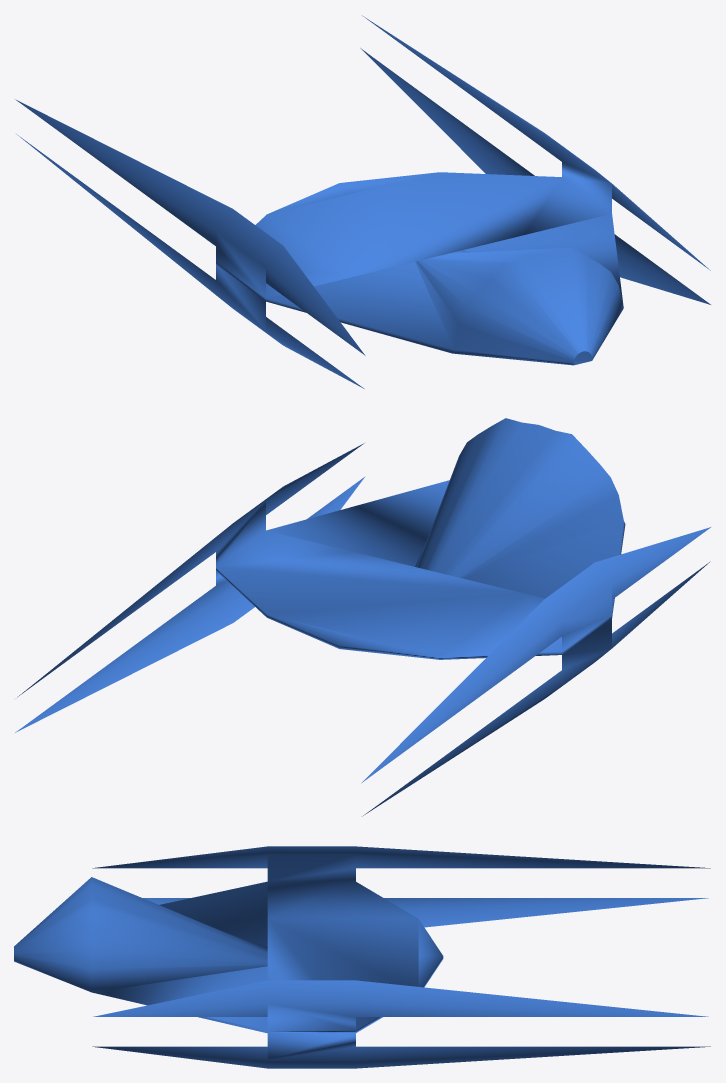
Rendered from Vulture.fbx.
The picture shows the model from 3 angles, top to bottom: view 1: azimuth 30°, elevation 25°; view 2: azimuth 150°, elevation 25°; view 3: azimuth 270°, elevation 25°; orthographic projection. The views are drawn at different scales.
Parts seen in each view (by area): view 1: Vulture Droid; view 2: Vulture Droid; view 3: Vulture Droid.
Part boxes in pixels (x1,y1,x2,y2): Vulture Droid: (15,15,710,388); Vulture Droid: (15,418,710,816); Vulture Droid: (14,846,710,1068).
Bounding box in the file's own units: 200 × 69.82 × 396.
